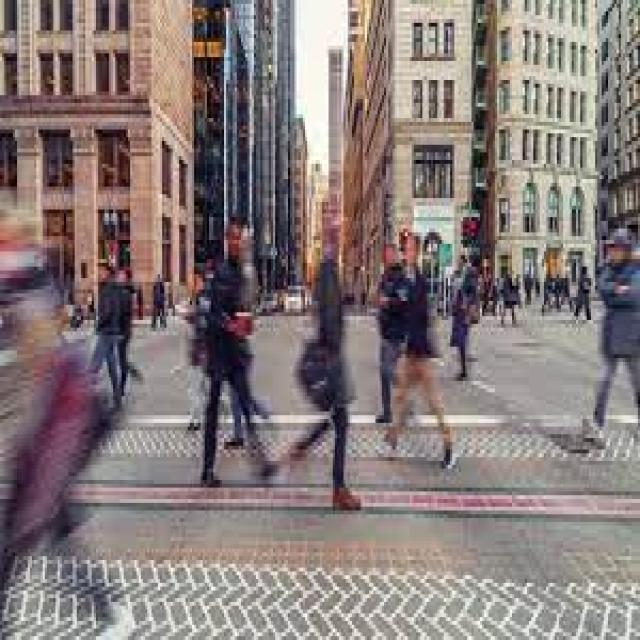Pedestrians: (280, 209, 371, 522), (196, 209, 280, 484), (380, 229, 461, 476), (578, 225, 640, 457)
